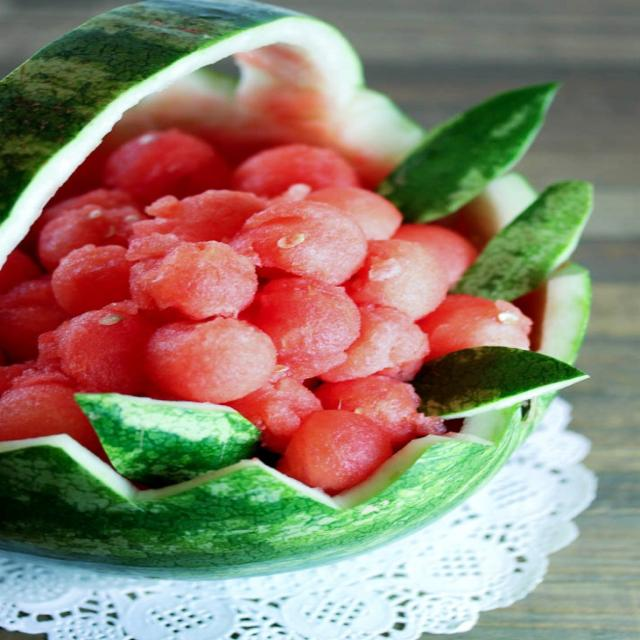watermelon: (2, 1, 594, 576)
